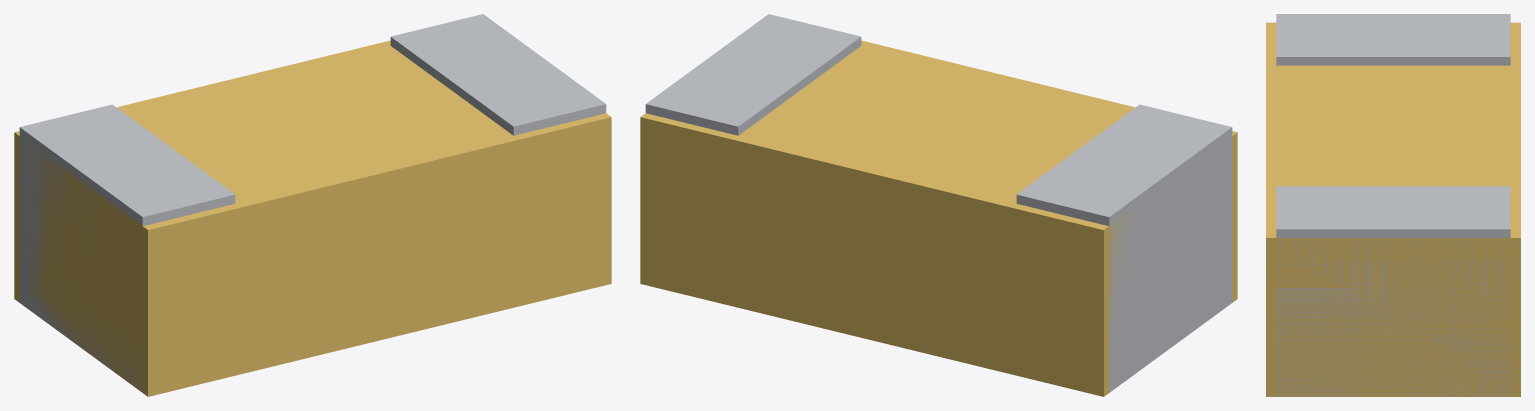
Rendered from led-0603.glb.
The picture shows the model from 3 angles, left to right: view 1: azimuth 30°, elevation 25°; view 2: azimuth 150°, elevation 25°; view 3: azimuth 270°, elevation 25°; orthographic projection. The views are drawn at different scales.
Visible parts, largest first — view 1: body, object 2; view 2: body, object 2; view 3: body, object 2.
Part boxes in pixels (left/top/right/bottom): body: left=14, top=40, right=611, bottom=396; object 2: left=19, top=14, right=606, bottom=391; body: left=640, top=40, right=1237, bottom=396; object 2: left=645, top=14, right=1232, bottom=392; body: left=1266, top=22, right=1520, bottom=396; object 2: left=1276, top=14, right=1510, bottom=396.
Size of the model in its own units: 0.0016 by 0.00058 by 0.0008.
